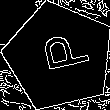P_W: (30, 33, 89, 80)
